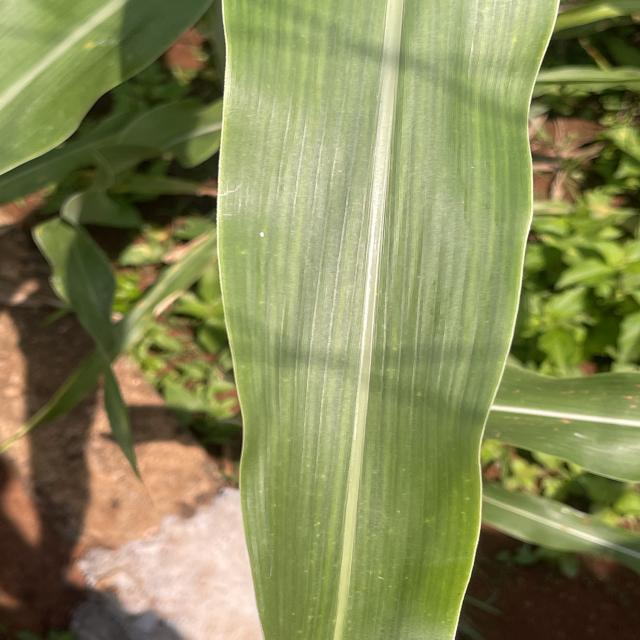millet_healthy: (210, 0, 561, 640)
